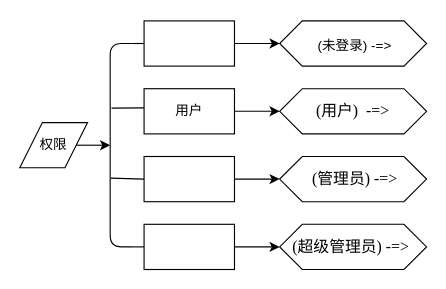
Image size: 446x289. Some labels were removed from this diagram. The shapes that lost their labels are listed below. From the top down, each one's centre as x and y in pixels, then its label:
pixel 188 43: 未登录
pixel 188 178: 管理员
pixel 188 246: 超级管理员
